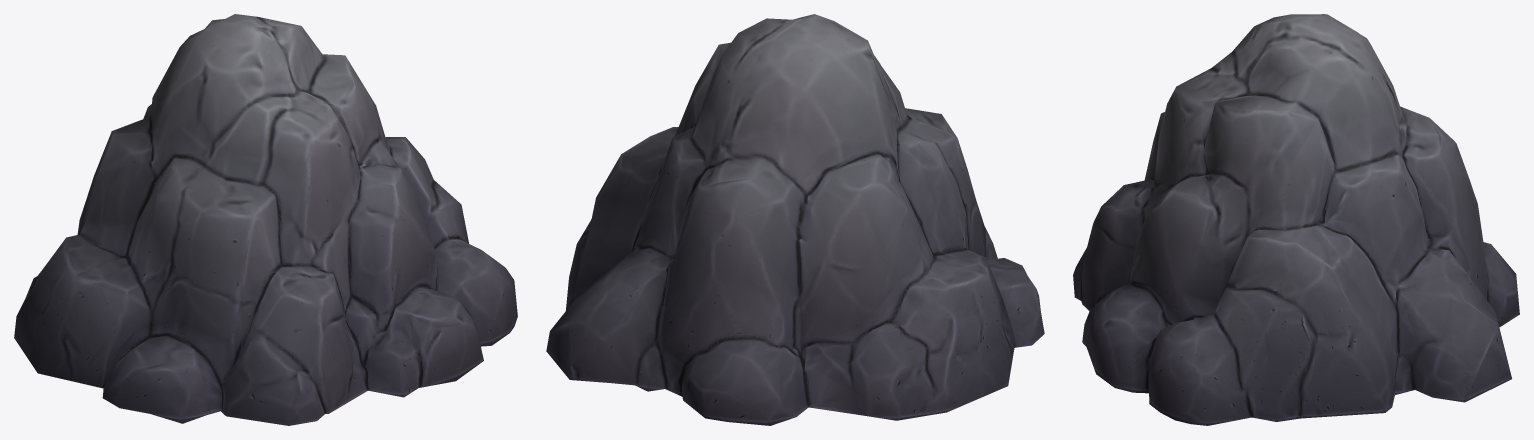
Rendered from rock_asset.fbx.
The picture shows the model from 3 angles, left to right: view 1: azimuth 30°, elevation 25°; view 2: azimuth 150°, elevation 25°; view 3: azimuth 270°, elevation 25°; orthographic projection. The views are drawn at different scales.
Parts seen in each view (by area): view 1: rock; view 2: rock; view 3: rock.
Boxes of the visible parts, bbox=[...] form: rock: bbox=[14, 14, 517, 425]; rock: bbox=[546, 14, 1044, 425]; rock: bbox=[1073, 14, 1519, 425].
Size of the model in its own units: 100 by 69.96 by 92.87.
1 material, 1 textured.
